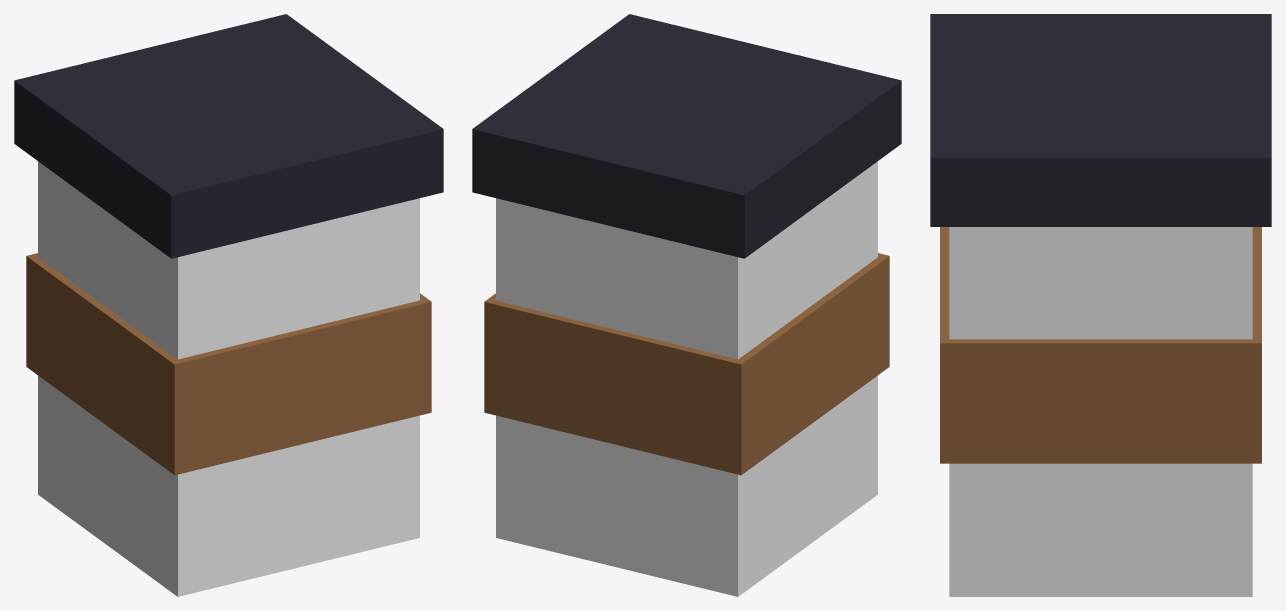
The model's file is coffee.glb.
3 views of the same model, side by side, from view 1: azimuth 30°, elevation 25°; view 2: azimuth 150°, elevation 25°; view 3: azimuth 270°, elevation 25° (orthographic). The views are drawn at different scales.
Parts seen in each view (by area): view 1: coffee; view 2: coffee; view 3: coffee.
Boxes of the visible parts, x1,y1,x2,y2 form: coffee: [14, 14, 443, 596]; coffee: [472, 14, 901, 596]; coffee: [930, 14, 1271, 596].
Size of the model in its own units: 0.09 by 0.13 by 0.09.
1 material, 1 textured.
